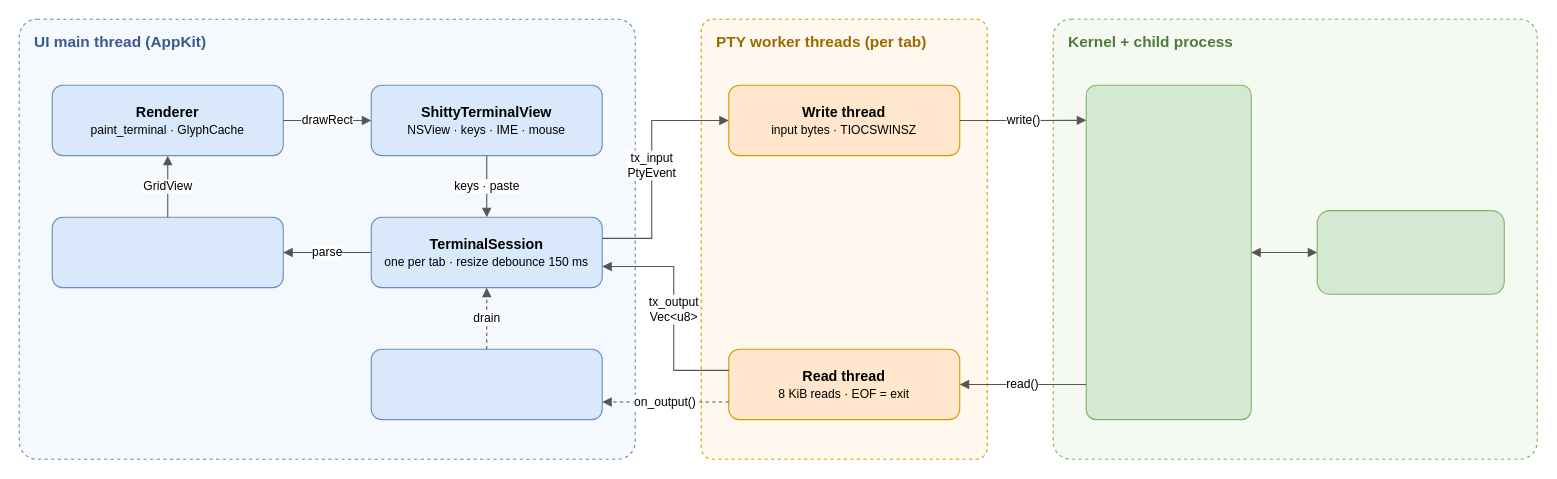
The diagram is 1557 pixels wide and 479 high, and some of its shapes have lost their labels. Each missing label, with the centre of its shape:
"/bin/zsh login shell on PTY slave TERM=xterm-256color" belongs at (1410,252).
"PTY master fd" belongs at (1168,252).
"TerminalGrid libghostty-vt parser · scrollback" belongs at (167,252).
"ViewWake coalesces output bursts · 8 ms" belongs at (486,384).
